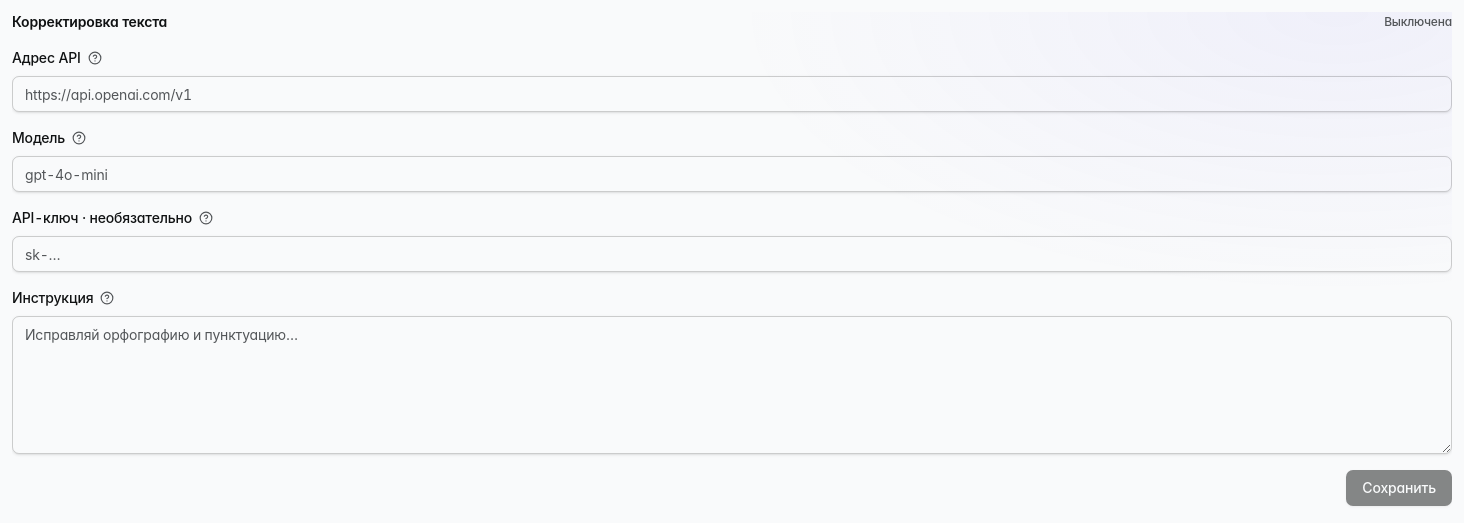
CorrectionSetting › explains Адрес API on hover and keyboard focus, dismisses with Escape, and provides examples
Check: the field with placeholder "https://api.openai.com/v1" is shown, box x1=12 y1=76 x2=1452 y2=112
Hover over the button named "Подсказка: Адрес API" at x=95, y=58, box x1=85 y1=48 x2=105 y2=68
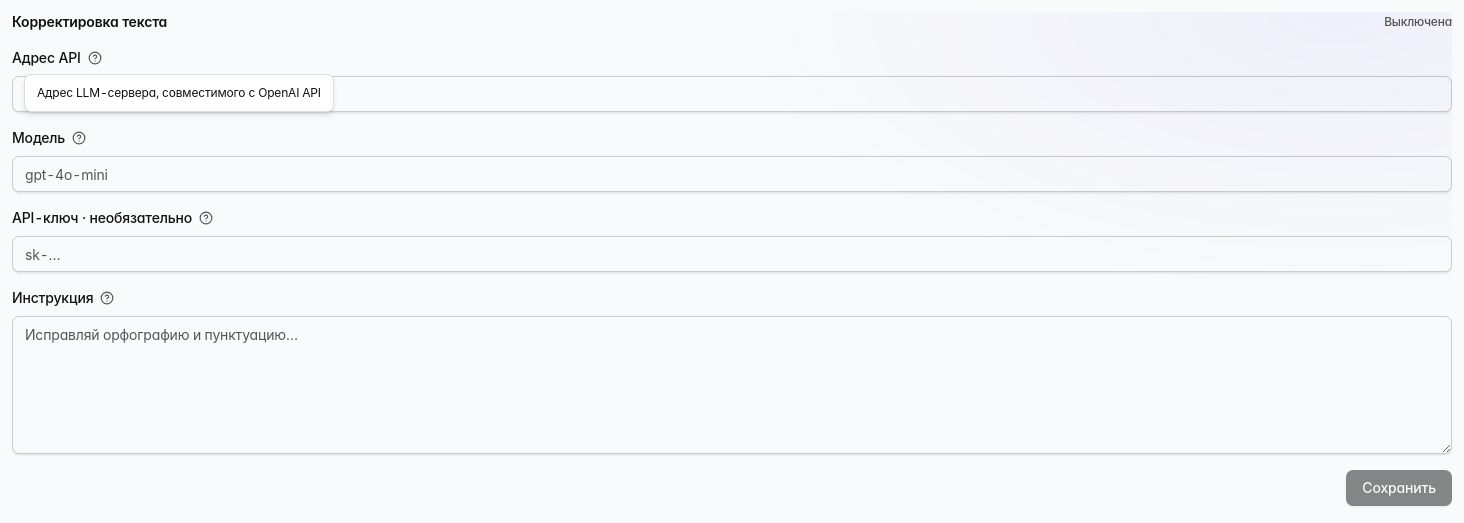
Check: the tooltip reads "Адрес LLM-сервера, совместимого с OpenAI API", box x1=37 y1=85 x2=321 y2=100
Press Escape
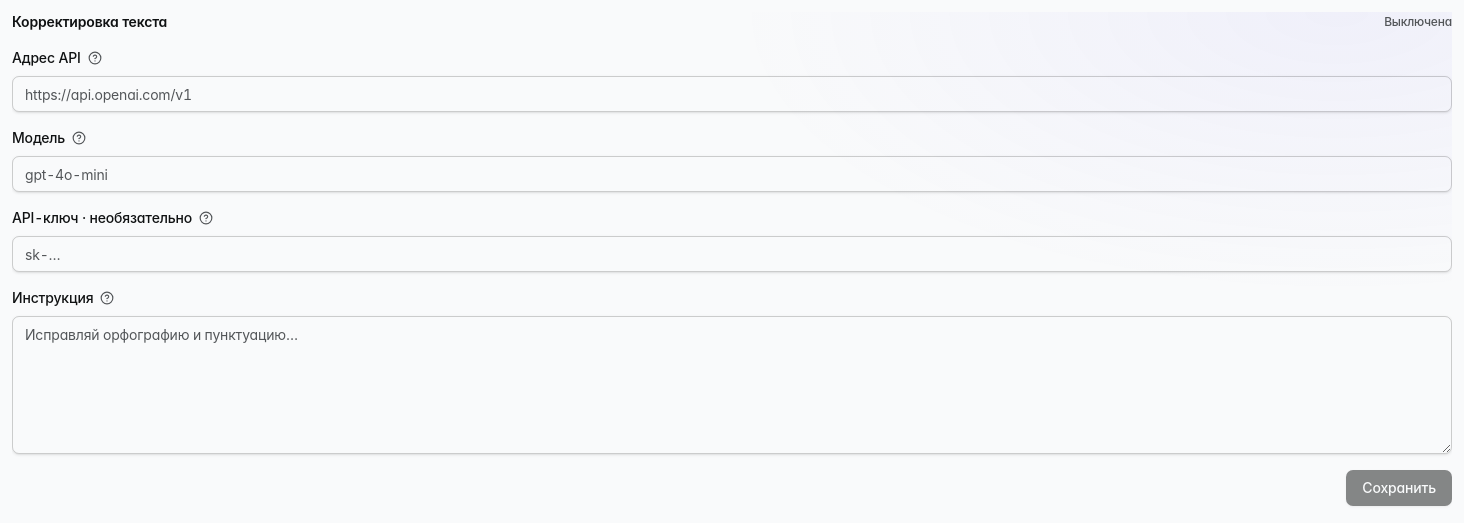
Check: the tooltip "Адрес LLM-сервера, совместимого с OpenAI API" is gone
Move the pointer off the button named "Подсказка: Адрес API", box x1=85 y1=48 x2=105 y2=68
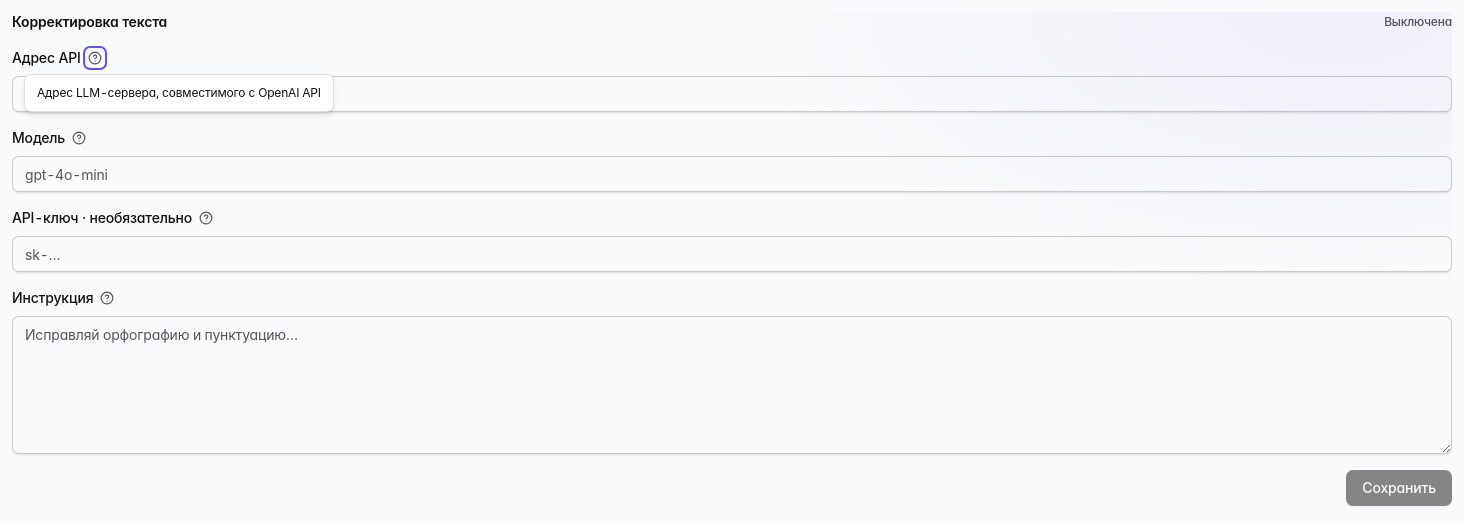
Check: the tooltip reads "Адрес LLM-сервера, совместимого с OpenAI API", box x1=37 y1=85 x2=321 y2=100
Press Escape
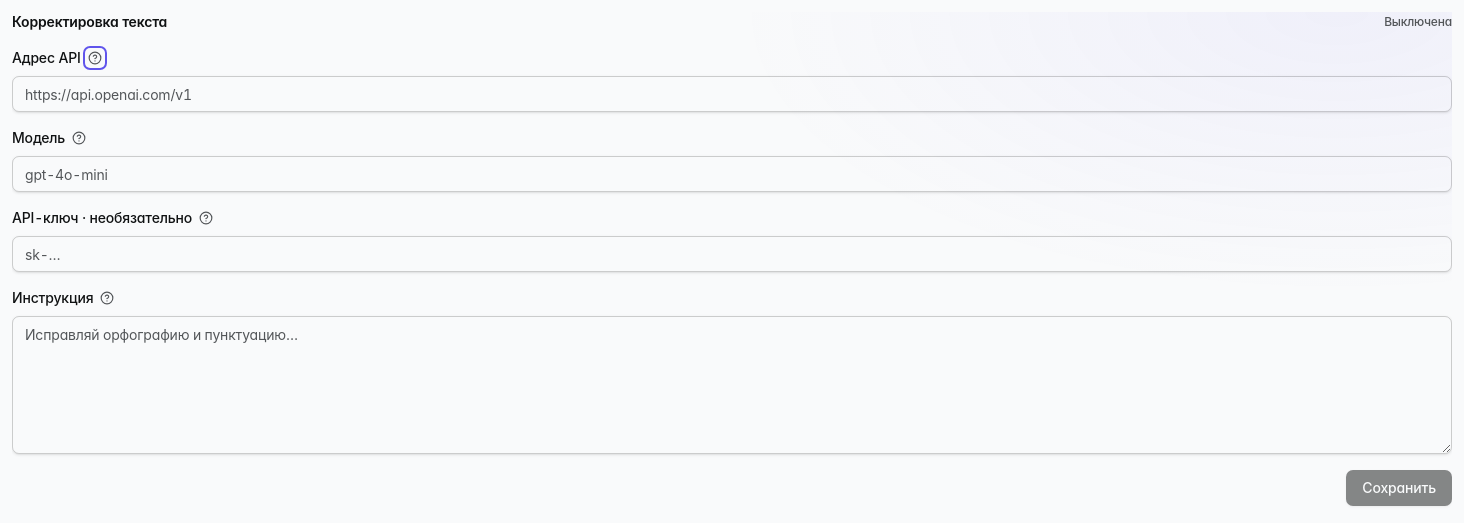
Check: the tooltip "Адрес LLM-сервера, совместимого с OpenAI API" is gone
